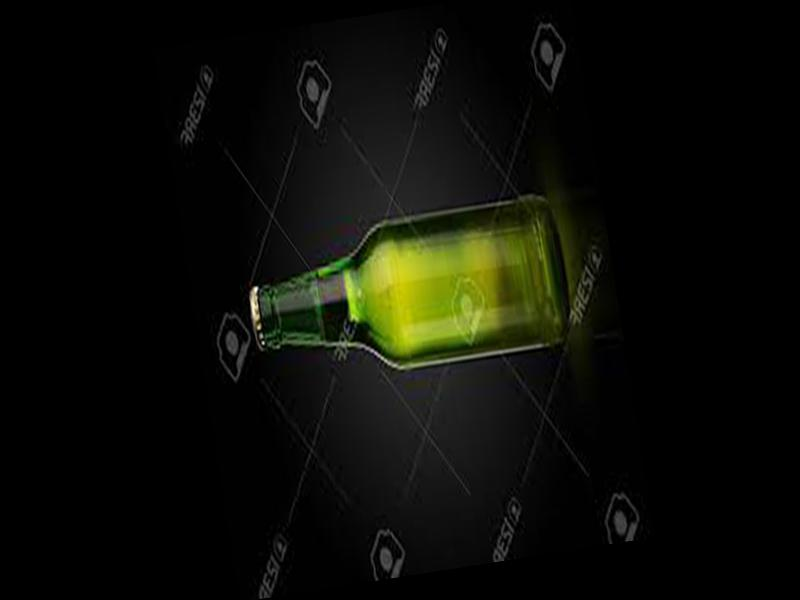Beer: (240, 197, 574, 394)
